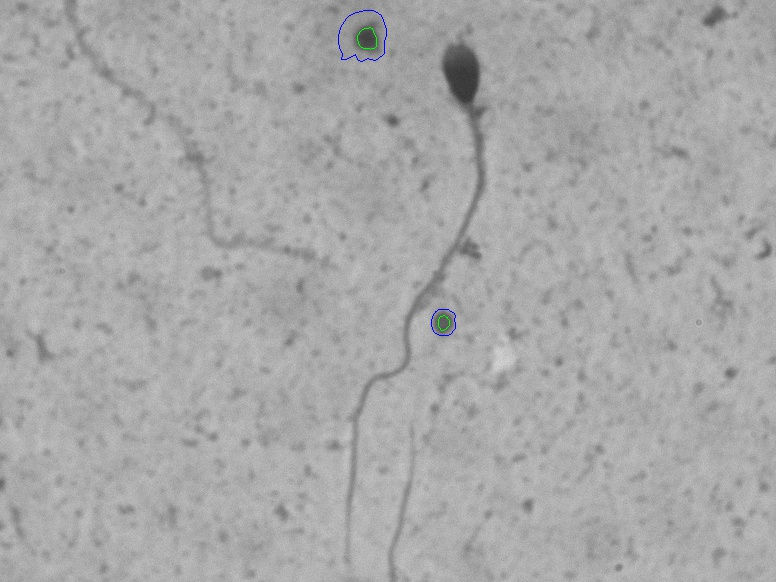Normal: (325, 33, 507, 564)
